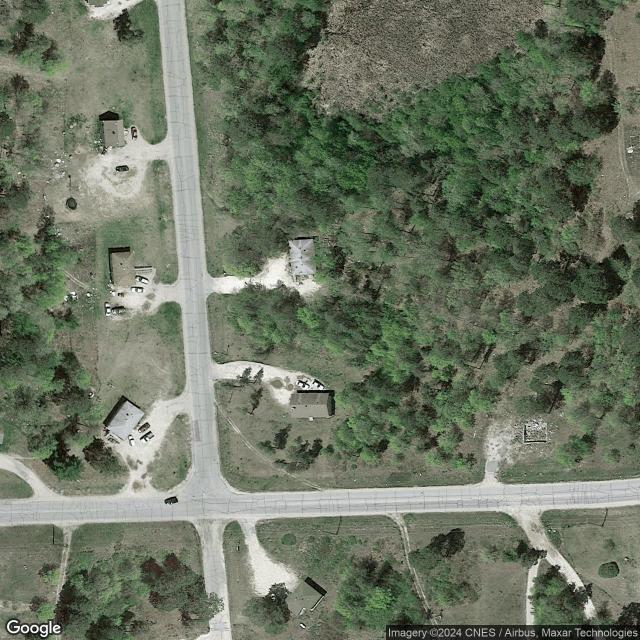Propane: (299, 622, 307, 630)
